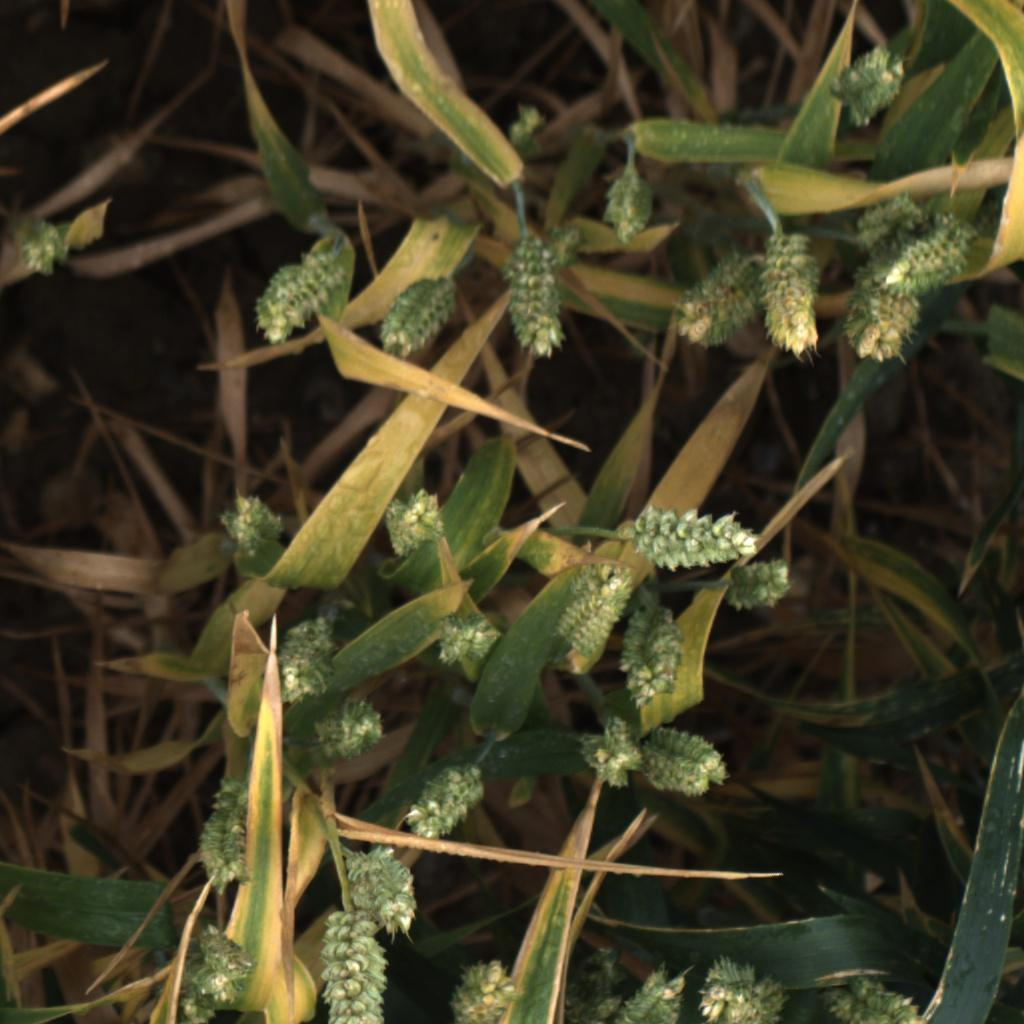0-0: (865, 200, 982, 304), (840, 243, 926, 366), (302, 909, 391, 1024), (666, 247, 757, 351), (247, 253, 347, 346), (610, 592, 688, 710), (633, 501, 760, 573), (757, 226, 824, 359), (498, 239, 569, 363), (634, 721, 739, 804), (553, 559, 630, 659), (196, 769, 257, 894), (339, 844, 423, 932), (829, 40, 912, 129), (695, 956, 793, 1024), (376, 280, 460, 359), (847, 186, 934, 260), (184, 924, 256, 1008), (818, 970, 930, 1024), (408, 767, 483, 844), (147, 945, 219, 1024), (575, 716, 648, 793), (600, 155, 659, 249), (313, 693, 392, 762), (277, 618, 337, 708), (380, 489, 451, 562), (565, 943, 625, 1024), (443, 960, 518, 1024), (619, 963, 696, 1024), (215, 495, 285, 559), (722, 556, 799, 614), (432, 609, 503, 668), (12, 219, 71, 280), (503, 99, 555, 167)
